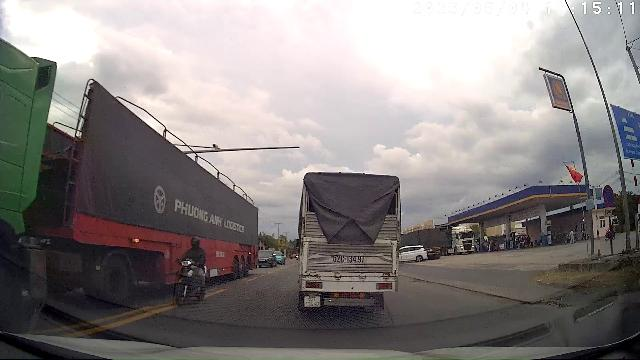130-cam-dung-va-do-xe: (604, 184, 614, 206)
